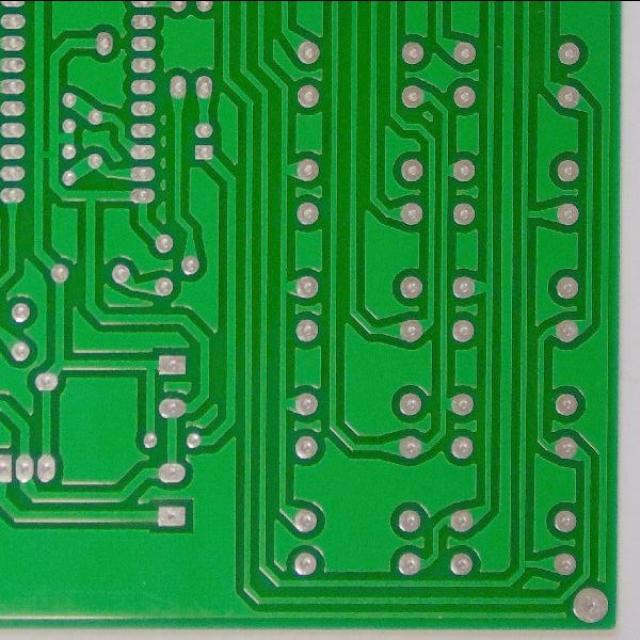Short_Circuit: (32, 143, 61, 168)
